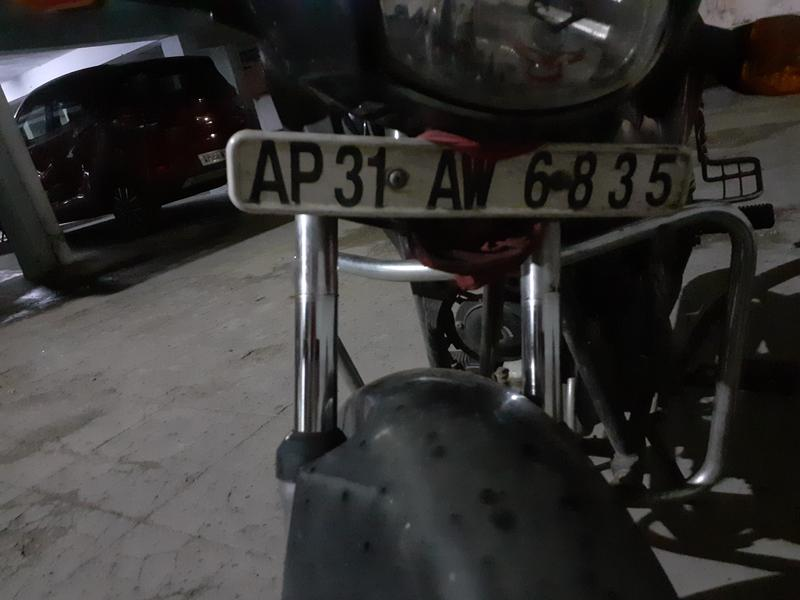numberplate: (212, 128, 724, 244)
